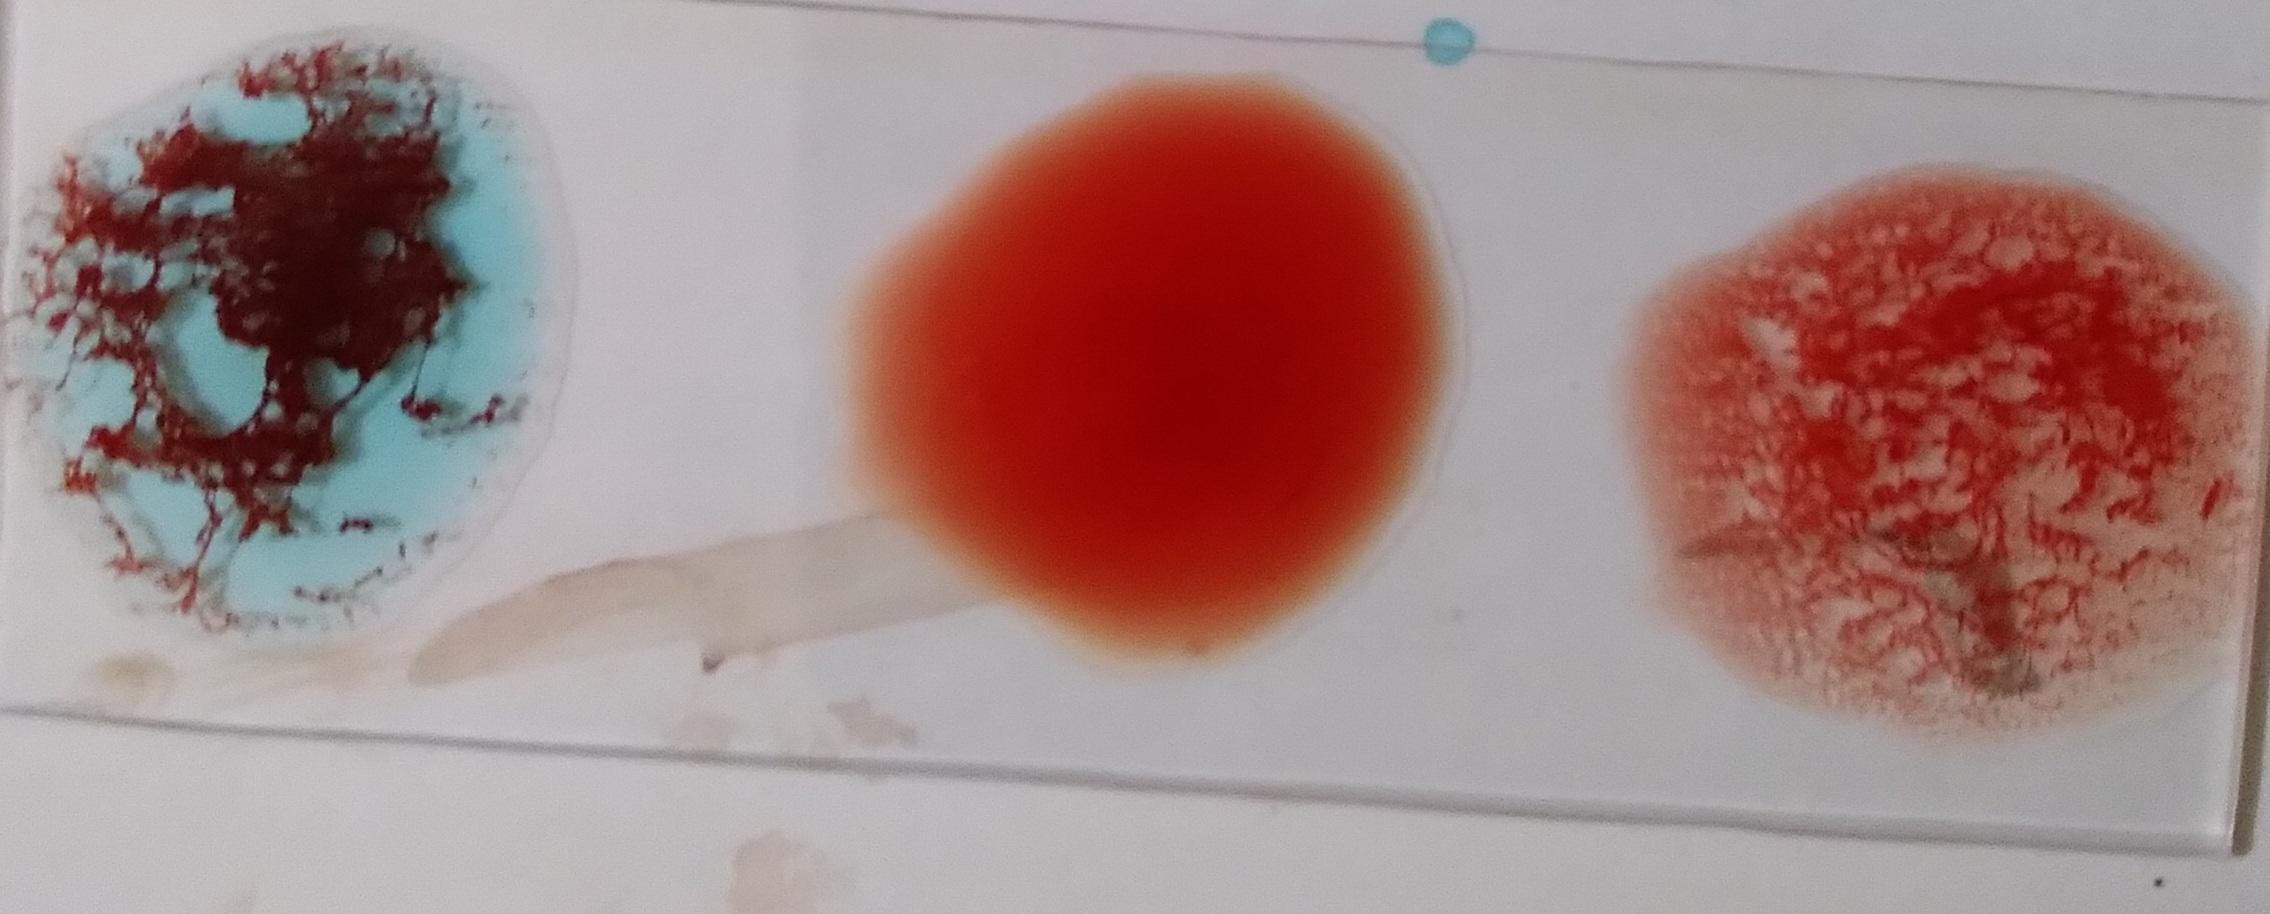A: (0, 43, 549, 624)
D: (1671, 158, 2248, 714)
